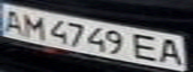4: (84, 24, 109, 53), (45, 17, 69, 45)
7: (63, 20, 87, 48)
9: (103, 27, 130, 56)
A: (154, 37, 187, 66), (0, 7, 27, 35)
E: (130, 32, 163, 62)
M: (21, 11, 48, 39)
